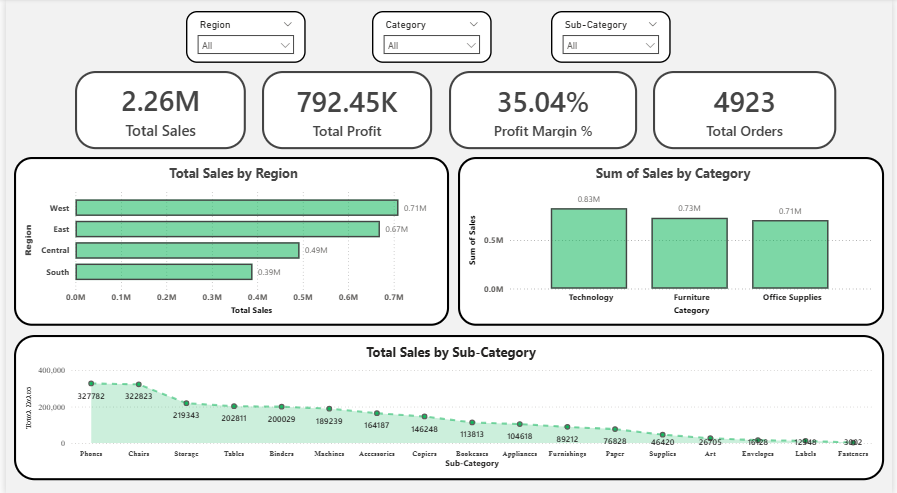

What the dashboard file says about the page in this screenshot:
{"tool":"powerbi","page":{"name":"Page 1","canvas":[1280,720],"ordinal":0},"visuals":[{"type":"card","fields":{"Values":["Fact_Sales.Total Sales"]},"box":[99.8,105.5,247.2,112.8],"z":0},{"type":"card","fields":{"Values":["Fact_Sales.Total Profit"]},"box":[370.1,105.5,245.8,112.8],"z":1000},{"type":"card","fields":{"Values":["Fact_Sales.Profit Margin %"]},"box":[640.5,105.5,271.8,112.8],"z":2000},{"type":"card","fields":{"Values":["Fact_Sales.Total Orders"]},"box":[935.4,105.5,264.6,112.8],"z":3000},{"type":"clusteredBarChart","fields":{"Category":["Fact_Sales.Region"],"Y":["Fact_Sales.Total Sales"]},"box":[11.6,229.9,628.9,244.3],"z":4000},{"type":"columnChart","fields":{"Category":["Fact_Sales.Category"],"Y":["Sum(Fact_Sales.Sales)"]},"box":[653.5,229.9,615.9,244.3],"z":5000},{"type":"lineChart","fields":{"Y":["Fact_Sales.Total Sales"],"Category":["Fact_Sales.Sub-Category"]},"box":[11.6,487.2,1257.8,209.6],"z":6000},{"type":"slicer","fields":{"Values":["Fact_Sales.Region"]},"box":[260.2,18.8,173.5,75.2],"z":6001},{"type":"slicer","fields":{"Values":["Fact_Sales.Category"]},"box":[529.2,18.8,173.5,75.2],"z":6002},{"type":"slicer","fields":{"Values":["Fact_Sales.Sub-Category"]},"box":[788,18.8,173.5,75.2],"z":6003}]}

Visuals, with their boxes in screenshot pixels (x1, y1, x2, y2), scaled from the page's 1280x720 canvas onto the 897x493 screenshot:
card - Fact_Sales.Total Sales: locate(70, 72, 243, 149)
card - Fact_Sales.Total Profit: locate(259, 72, 432, 149)
card - Fact_Sales.Profit Margin %: locate(449, 72, 639, 149)
card - Fact_Sales.Total Orders: locate(656, 72, 841, 149)
clusteredBarChart - Fact_Sales.Region x Fact_Sales.Total Sales: locate(8, 157, 449, 325)
columnChart - Fact_Sales.Category x Sum(Fact_Sales.Sales): locate(458, 157, 890, 325)
lineChart - Fact_Sales.Total Sales x Fact_Sales.Sub-Category: locate(8, 334, 890, 477)
slicer - Fact_Sales.Region: locate(182, 13, 304, 64)
slicer - Fact_Sales.Category: locate(371, 13, 492, 64)
slicer - Fact_Sales.Sub-Category: locate(552, 13, 674, 64)
